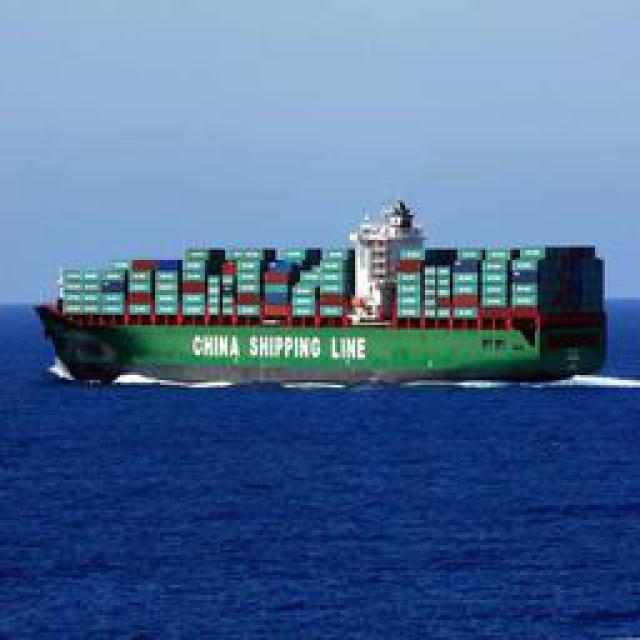Ship: (37, 305, 595, 385)
